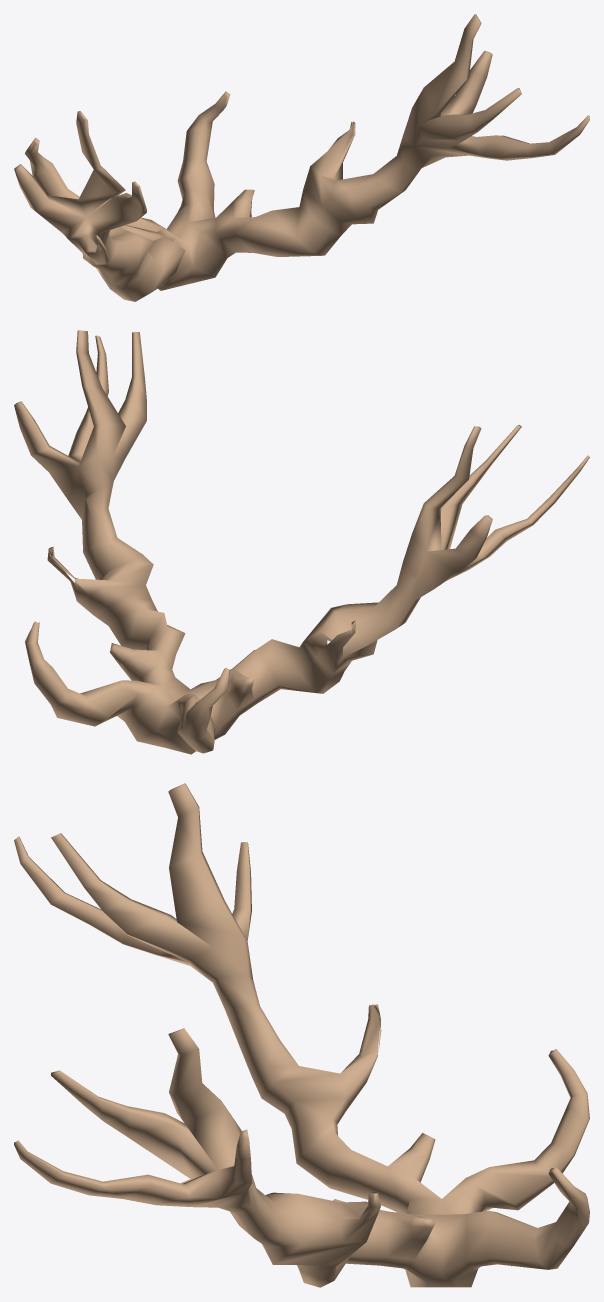
3 views of the same model, one above another, from view 1: azimuth 30°, elevation 25°; view 2: azimuth 150°, elevation 25°; view 3: azimuth 270°, elevation 25° (orthographic). The views are drawn at different scales.
Visible parts, largest first — view 1: Antlers.1; view 2: Antlers.1; view 3: Antlers.1.
Part boxes in pixels (x1,y1,x2,y2): Antlers.1: (14, 14, 589, 301); Antlers.1: (14, 330, 589, 754); Antlers.1: (14, 783, 589, 1287).
Bounding box in the file's own units: 213 × 118 × 169.
